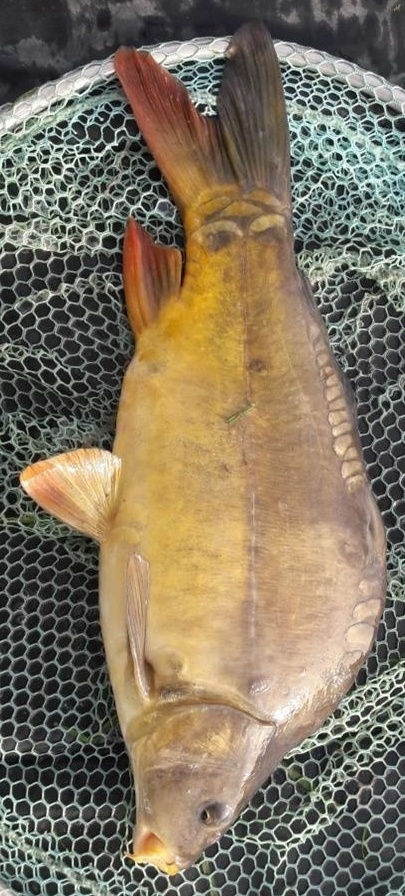Cyprinus carpio: (20, 20, 385, 876)
